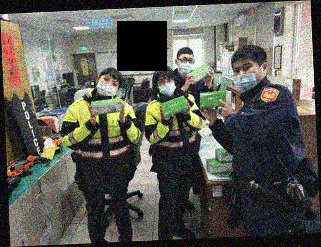with_mask: (232, 61, 263, 93), (95, 75, 120, 99), (157, 77, 177, 97), (177, 56, 196, 76)
